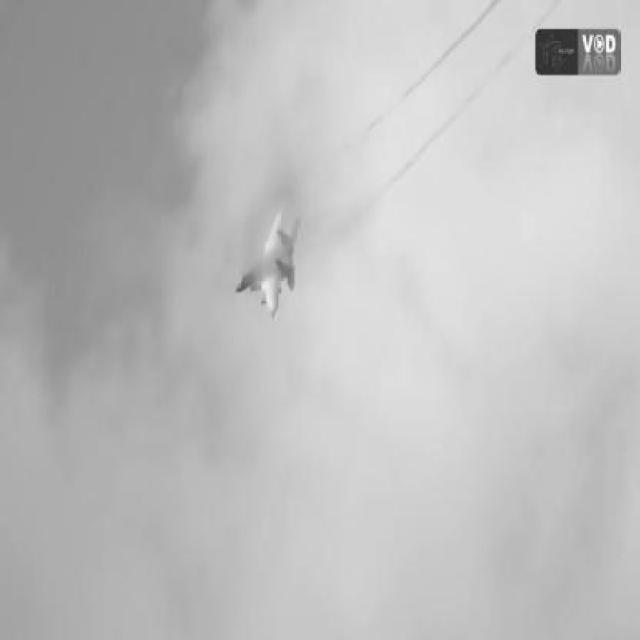Airplane: (234, 201, 305, 326)
